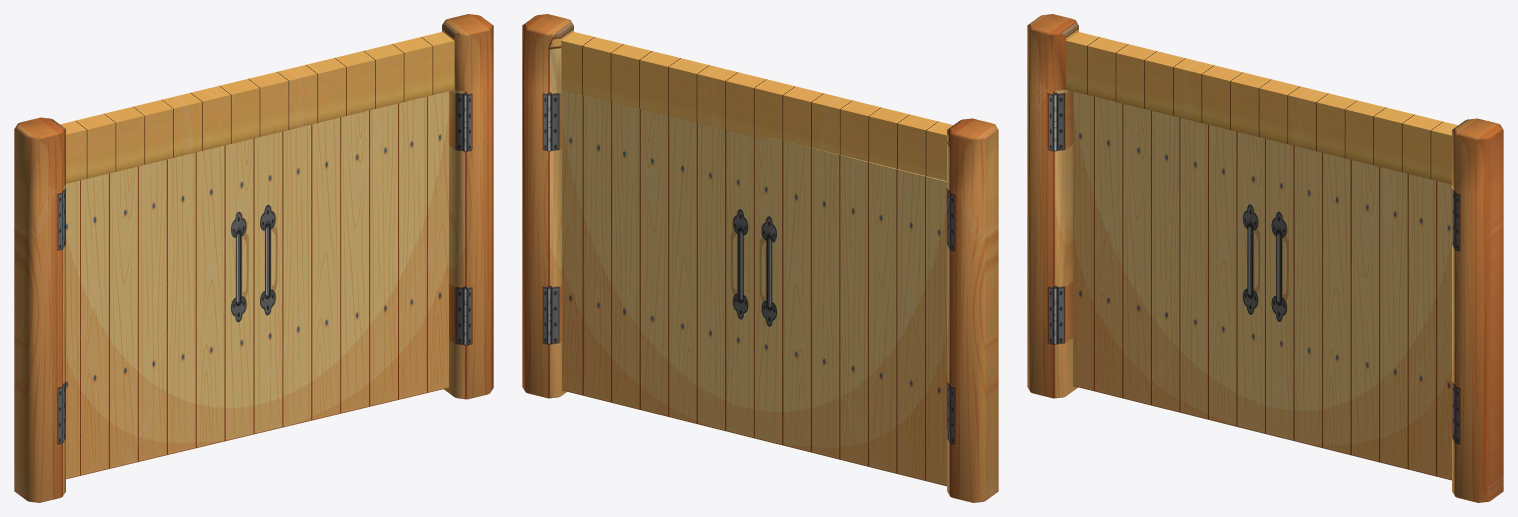
File: GATE 2.fbx
The picture shows the model from 3 angles, left to right: view 1: azimuth 30°, elevation 25°; view 2: azimuth 150°, elevation 25°; view 3: azimuth 330°, elevation 25°; orthographic projection.
Parts seen in each view (by area): view 1: pasted__polySurface6907_aiGate_M1_0.006, polySurface7370_aiGate_M1_0.007, polySurface7476_aiGate_M1_0.006; view 2: polySurface7476_aiGate_M1_0.006, polySurface7370_aiGate_M1_0.007, pasted__polySurface6907_aiGate_M1_0.006; view 3: pasted__polySurface6907_aiGate_M1_0.006, polySurface7476_aiGate_M1_0.006, polySurface7370_aiGate_M1_0.007.
Part boxes in pixels (x1,y1,x2,y2): pasted__polySurface6907_aiGate_M1_0.006: [14, 14, 493, 502]; polySurface7370_aiGate_M1_0.007: [253, 91, 448, 434]; polySurface7476_aiGate_M1_0.006: [66, 138, 253, 479]; polySurface7476_aiGate_M1_0.006: [754, 137, 947, 486]; polySurface7370_aiGate_M1_0.007: [562, 90, 754, 438]; pasted__polySurface6907_aiGate_M1_0.006: [522, 14, 998, 502]; pasted__polySurface6907_aiGate_M1_0.006: [1027, 14, 1503, 502]; polySurface7476_aiGate_M1_0.006: [1073, 91, 1264, 433]; polySurface7370_aiGate_M1_0.007: [1265, 138, 1451, 480].
Bounding box in the file's own units: 404 × 304 × 34.91.
Materials: 1 (1 with a texture image).
